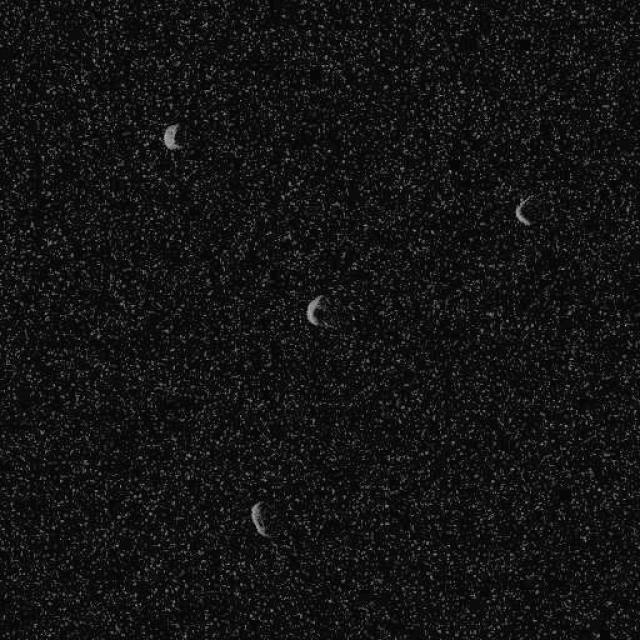D2: (305, 292, 333, 328), (248, 499, 272, 539), (512, 194, 532, 226), (161, 121, 180, 150)
